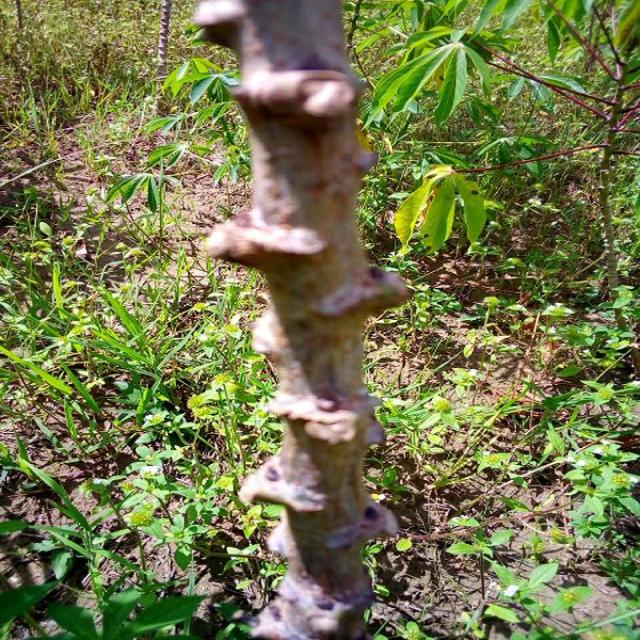cassava leaf: (393, 163, 486, 255)
